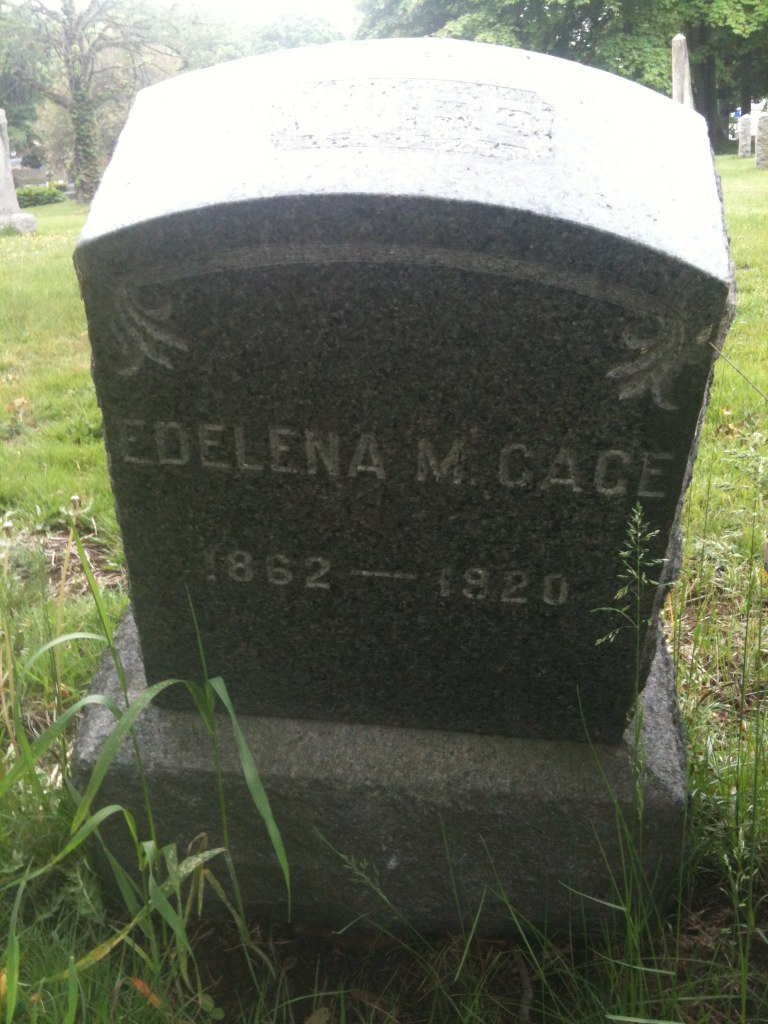upright: (71, 35, 733, 915)
